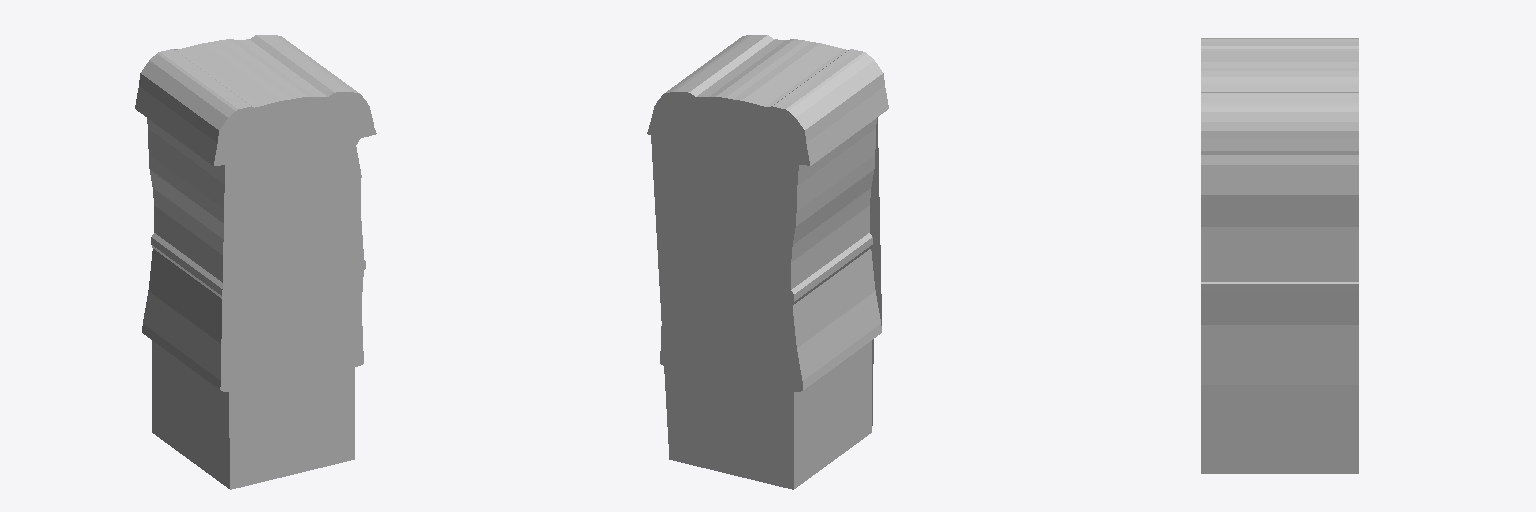
Rendered from soldier.obj.
The picture shows the model from 3 angles: view 1: azimuth 30°, elevation 25°; view 2: azimuth 150°, elevation 25°; view 3: azimuth 270°, elevation 25°; orthographic projection.
Visible parts, largest first — view 1: Plane.001; view 2: Plane.001; view 3: Plane.001.
Boxes of the visible parts, x1=… form: Plane.001: x1=135, y1=35, x2=376, y2=489; Plane.001: x1=647, y1=35, x2=888, y2=489; Plane.001: x1=1201, y1=38, x2=1358, y2=473.
Size of the model in its own units: 0.5797 by 1.28 by 0.4836.